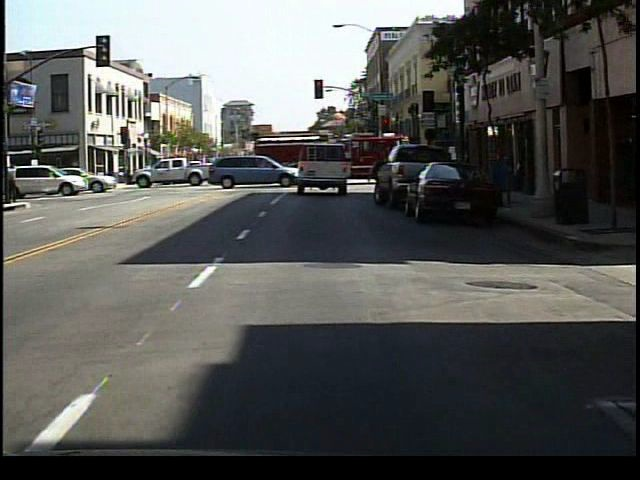person: (10, 161, 23, 208)
